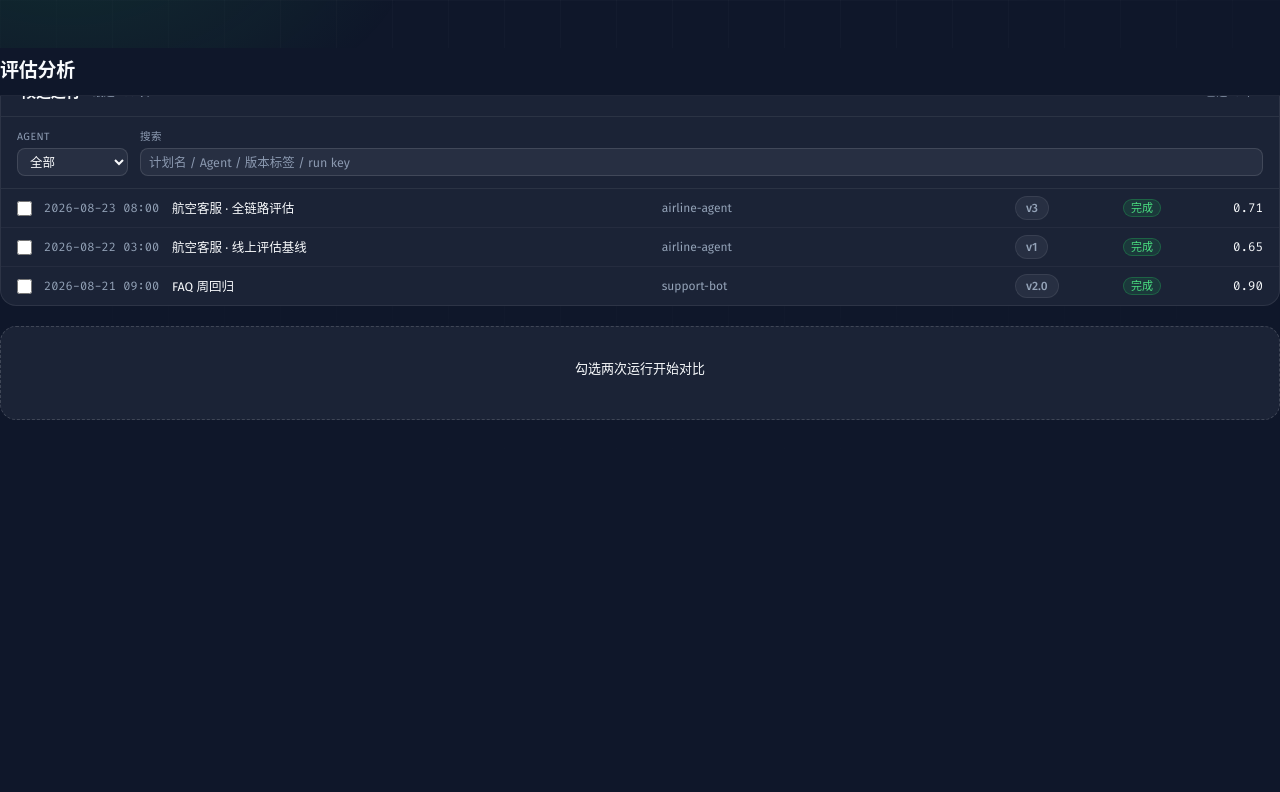
对比页：跨方案选两条 › 选两条不同方案的运行 → 出结果；两栏各带自己的方案名与版本快照
The width and height of the screenshot is (1280, 792).
Expected: the list with test id "compare-list" is shown, [1,189,1279,305]
# 刻意**先点较新那次**：谁在左由时刻定，不由点选顺序定
Click the list item "2026-08-23 08:00 航空客服 · 全链路评估 airline-agent v3 完成 0.71" at (102, 208), box [1,189,1279,227]
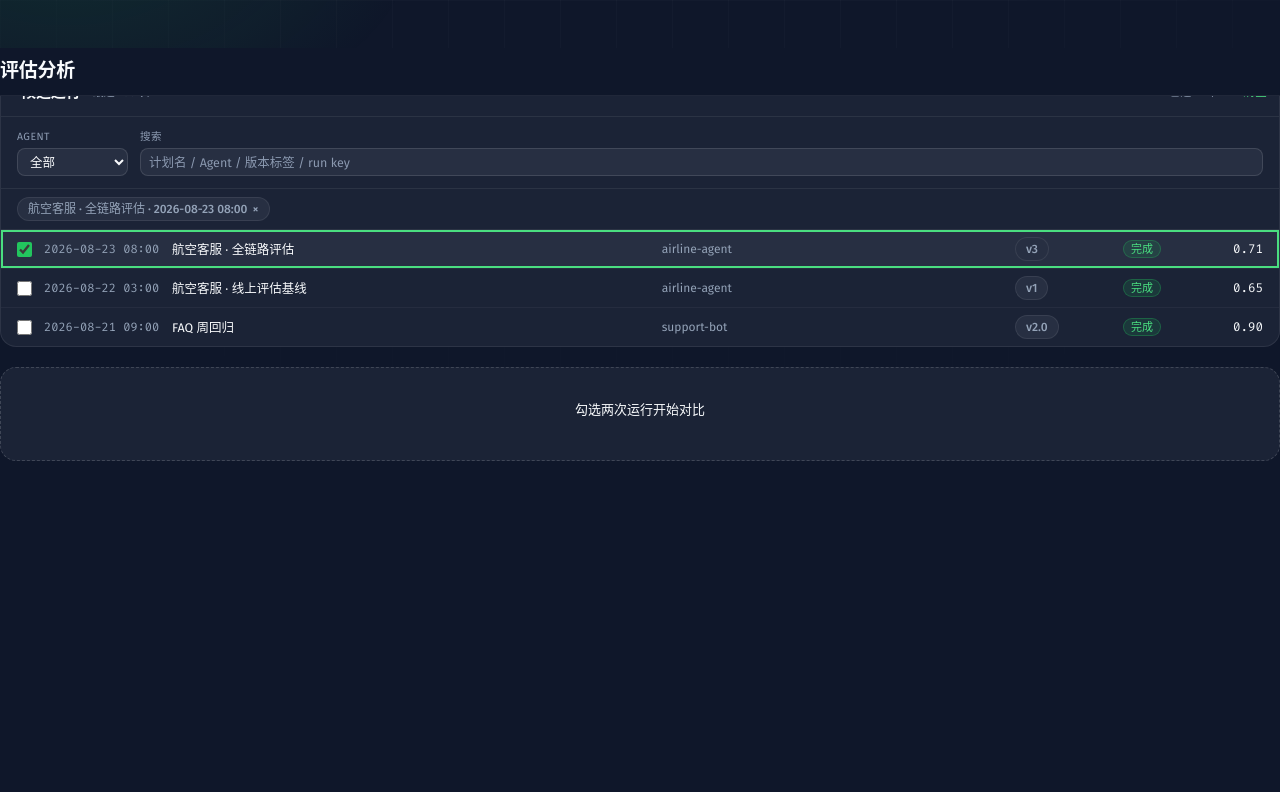
Click the list item "2026-08-22 03:00 航空客服 · 线上评估基线 airline-agent v1 完成 0.65" at (102, 288), box [1,268,1279,307]
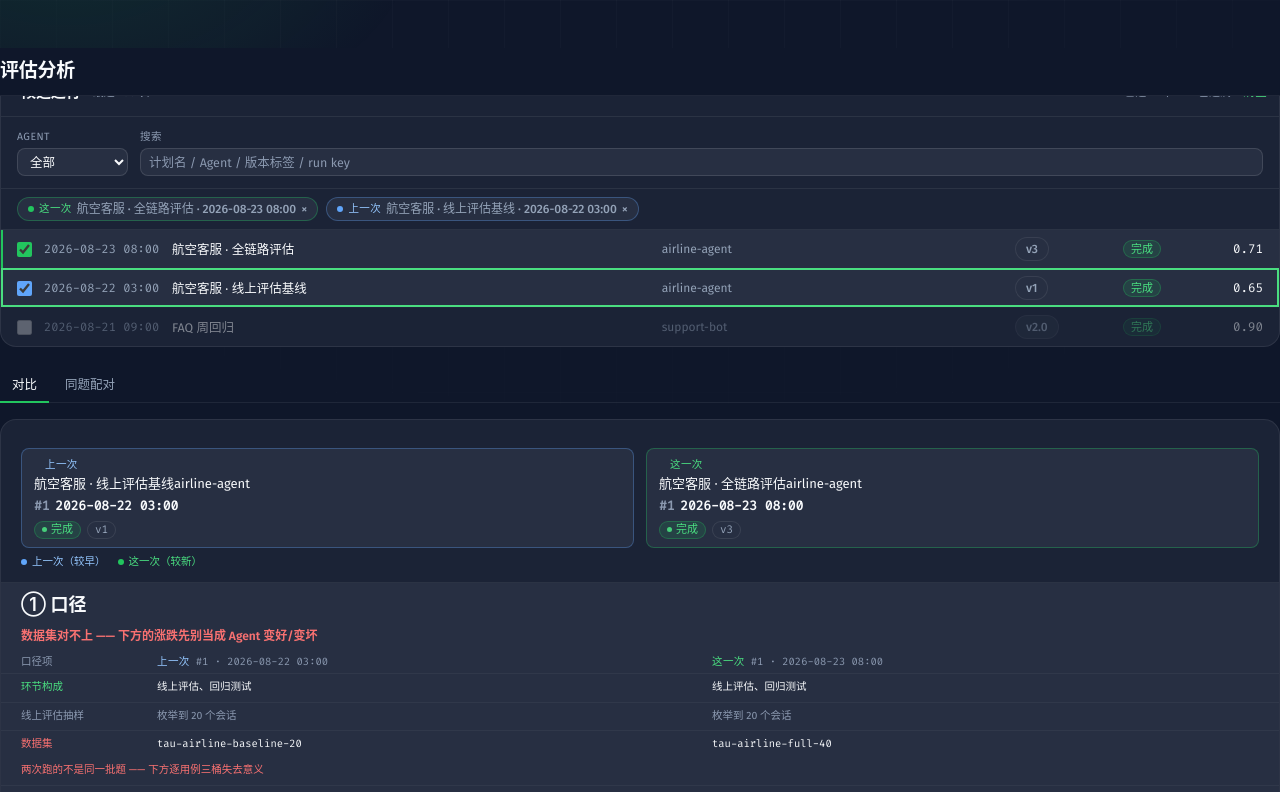
Expected: the element with test id "plan-compare-origin-a" shows "线上评估基线", [34,476,174,490]
Expected: the element with test id "plan-compare-origin-b" shows "全链路评估", [659,476,786,490]
Expected: the text with test id "plan-compare-version-a" reads "v1", [95,522,108,537]
